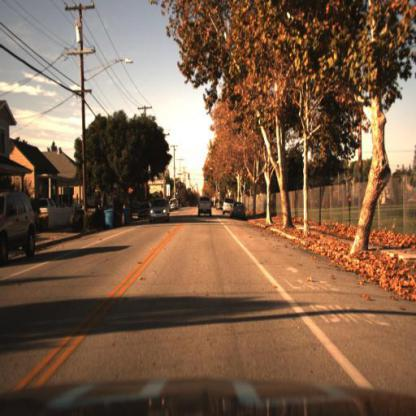car: (1, 191, 38, 268), (30, 192, 59, 228), (146, 198, 173, 227), (150, 199, 172, 228), (197, 191, 216, 219), (229, 200, 249, 219), (231, 201, 249, 220), (221, 197, 235, 215)
